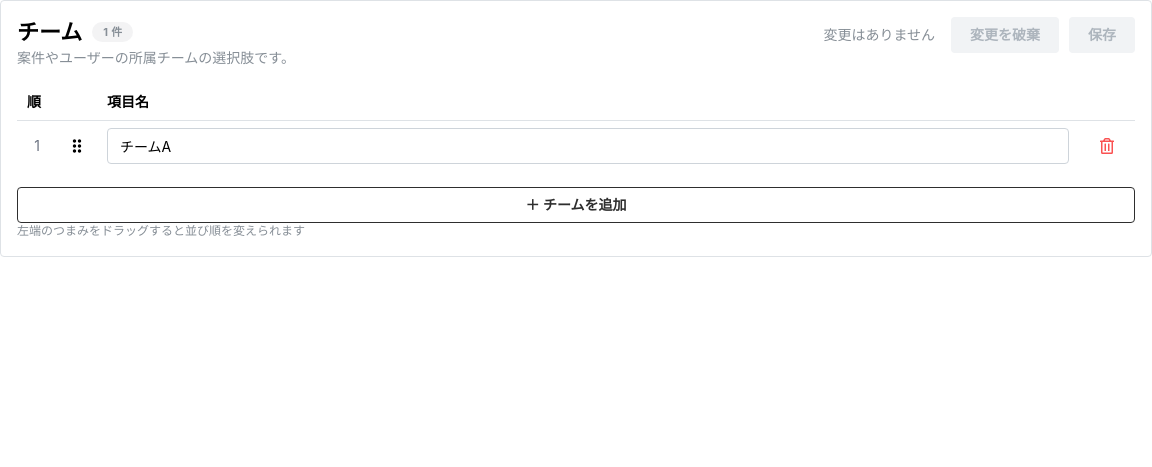
Test: optionRowsToSave › 編集パネルの表示（Issue #197） › 重複した名前は、Alert と重複した両方の入力欄にエラーを表示する
Click the button "＋ チームを追加". click: x=576, y=205
box: [17,187,1135,223]
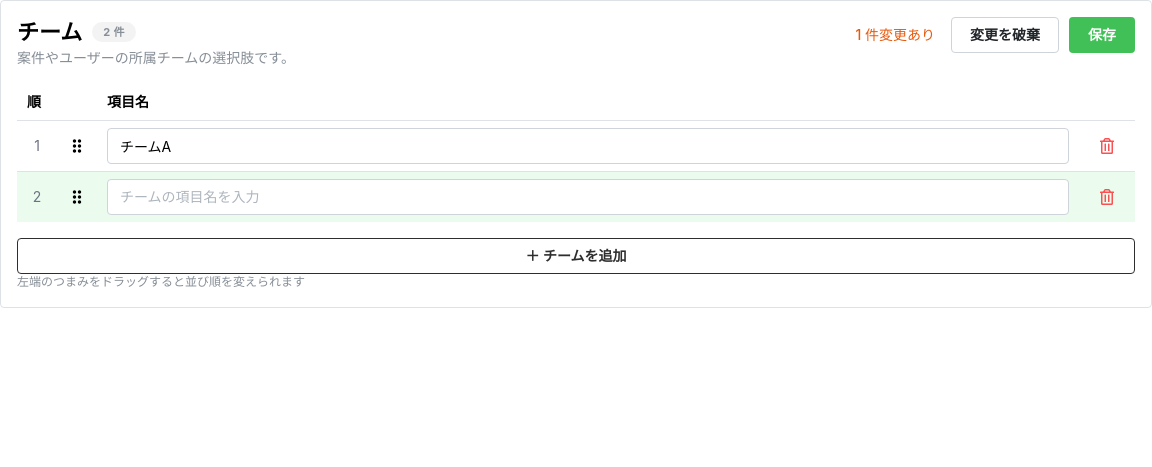
Type "チームA" into the field named "チームの項目名（2行目）". click: x=588, y=197
box: [107,179,1069,215]
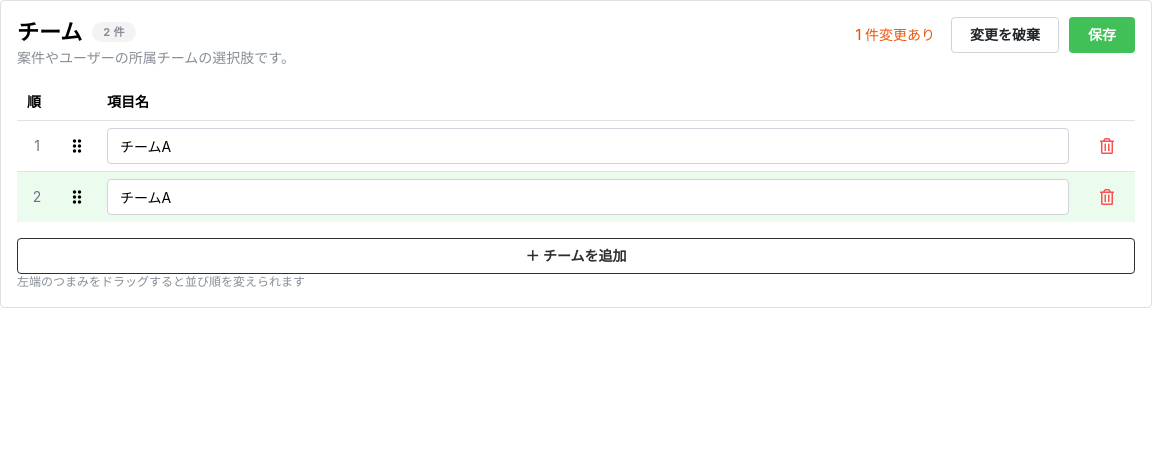
Click the button "保存". click: x=1102, y=35
box: [1069,17,1135,53]
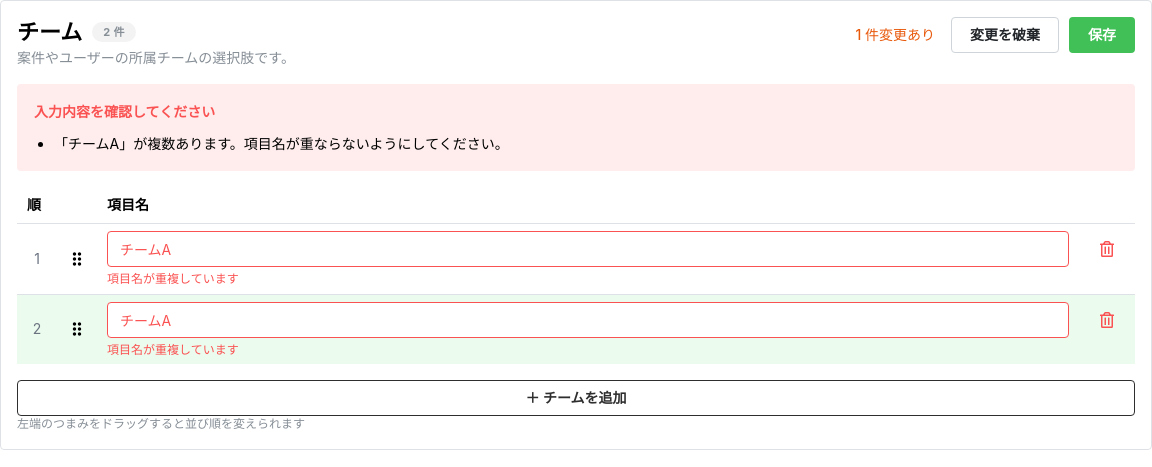
expect the text "入力内容を確認してください" is shown: met, box [34,101,215,123]
expect the text "項目名が重複しています" is shown 2 times: met, box [107,271,239,286]; [107,342,239,356]
